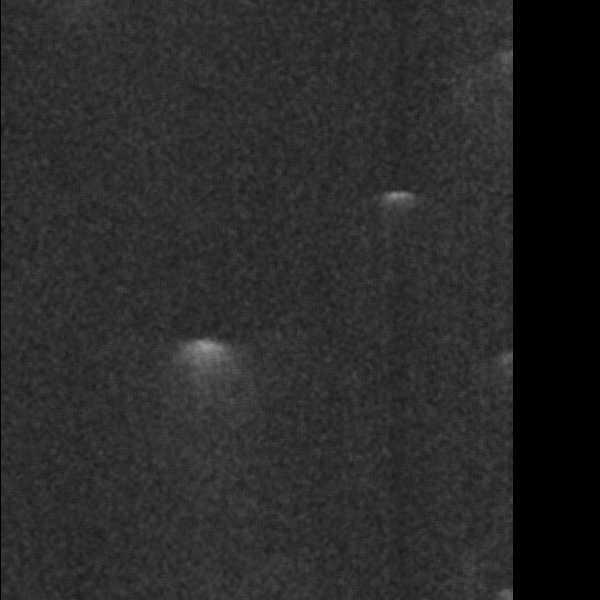spark: (177, 336, 231, 372), (372, 186, 415, 221), (500, 43, 517, 103)
